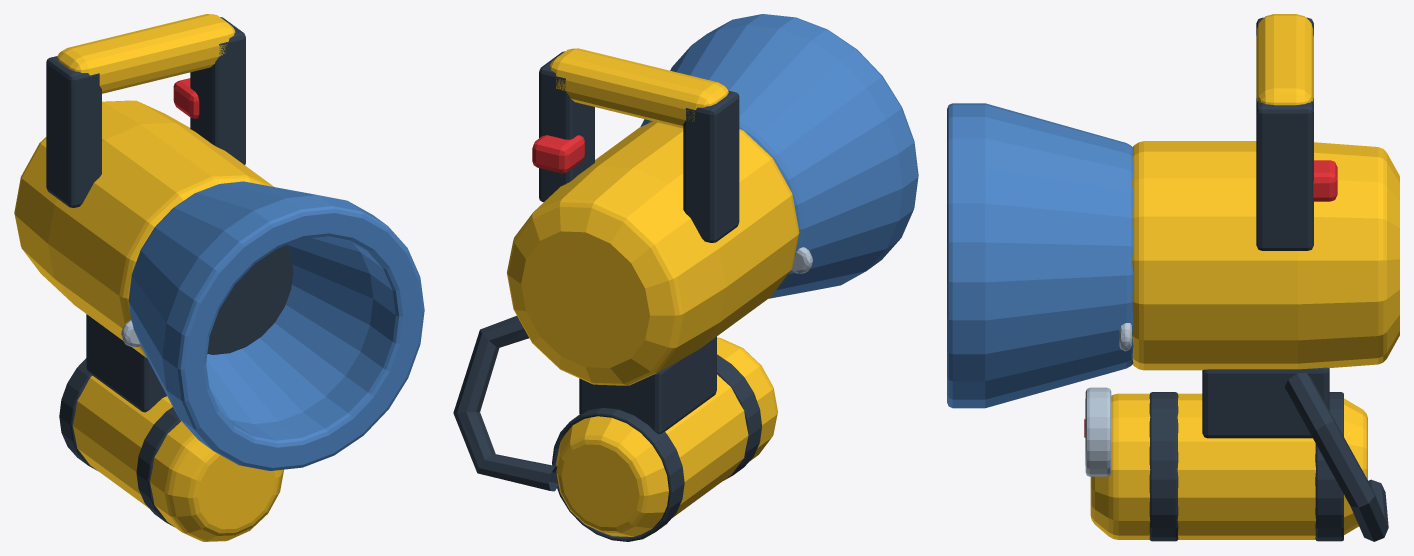
Rendered from AirCannon.fbx.
3 renders of one model, left to right at view 1: azimuth 30°, elevation 25°; view 2: azimuth 150°, elevation 25°; view 3: azimuth 270°, elevation 25°, orthographic. The views are drawn at different scales.
Parts seen in each view (by area): view 1: AirCannon; view 2: AirCannon; view 3: AirCannon.
Part boxes in pixels (x1,y1,x2,y2): AirCannon: (14, 14, 424, 541); AirCannon: (453, 14, 918, 541); AirCannon: (947, 14, 1399, 541).
Size of the model in its own units: 1.05 by 1.67 by 1.42.
